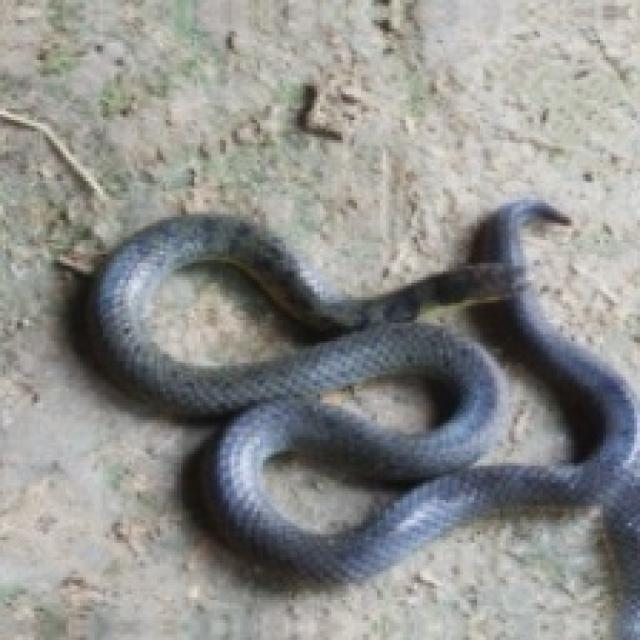luzon dwarf snake: (91, 197, 637, 580), (409, 294, 594, 466), (146, 260, 343, 366), (260, 443, 414, 534), (314, 369, 454, 434)
